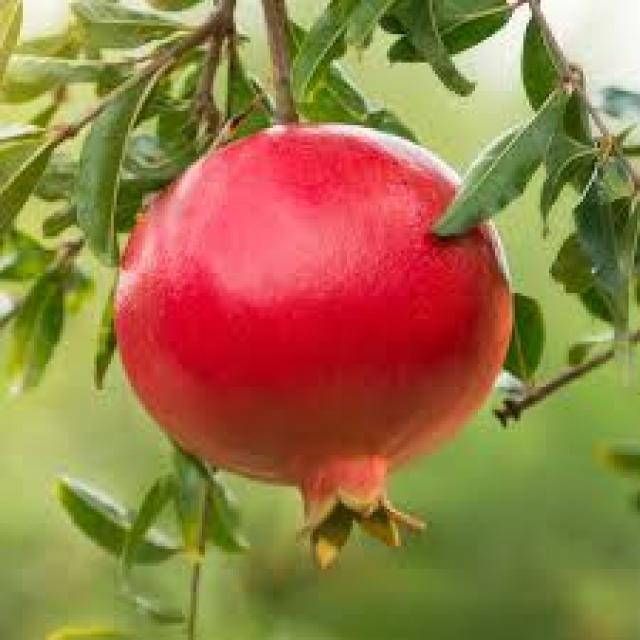Pomegranate: (122, 130, 470, 530)
